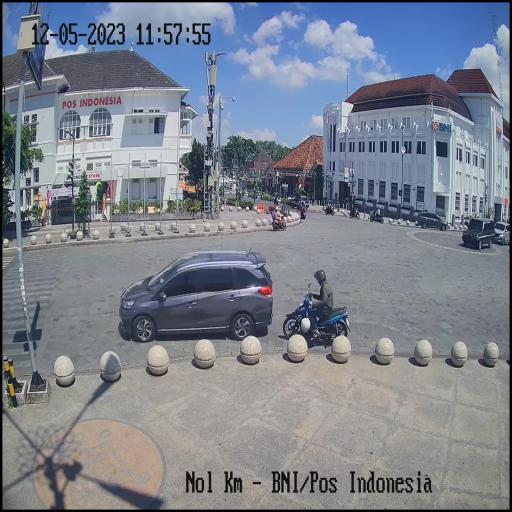mobil: (113, 247, 281, 344)
motor: (281, 284, 349, 352)
